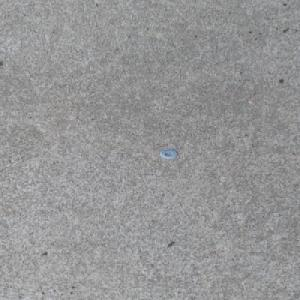Washer: (159, 148, 178, 159)
